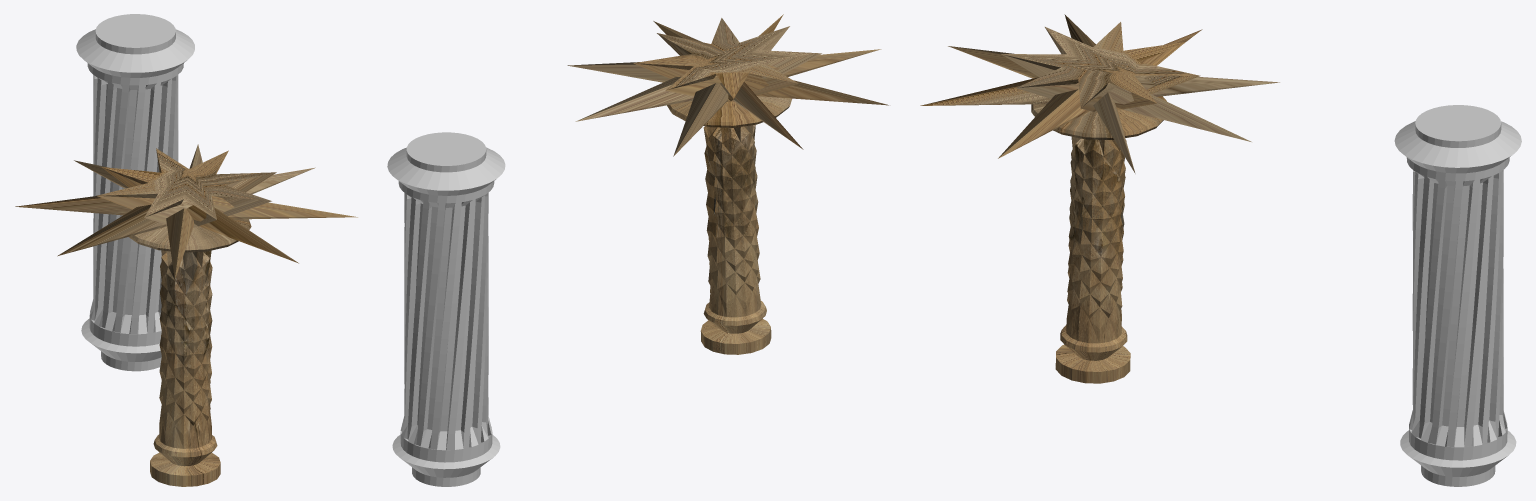
Rendered from prop2_jorge_emmanuel_ortiz_olmedo.fbx.
The picture shows the model from 3 angles, left to right: view 1: azimuth 30°, elevation 25°; view 2: azimuth 150°, elevation 25°; view 3: azimuth 270°, elevation 25°; orthographic projection. The views are drawn at different scales.
Parts seen in each view (by area): view 1: Cylinder, Cylinder.001; view 2: Cylinder.001, Cylinder; view 3: Cylinder.001, Cylinder.
Boxes of the visible parts, box(x1,y1,x2,y2) form: Cylinder: box(15, 144, 357, 486); Cylinder.001: box(76, 14, 194, 371); Cylinder.001: box(387, 132, 505, 486); Cylinder: box(567, 14, 888, 354); Cylinder.001: box(1394, 105, 1521, 486); Cylinder: box(920, 14, 1279, 383).
Size of the model in its own units: 956 by 945 by 1482.
